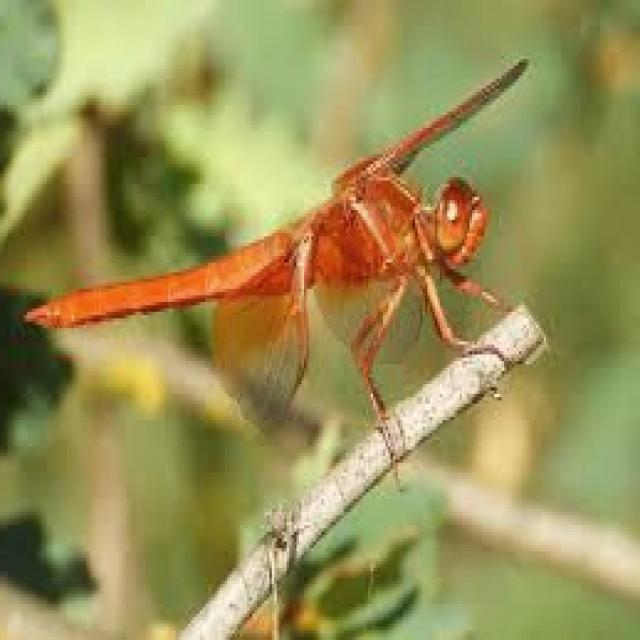dragonfly: (30, 62, 526, 417)
